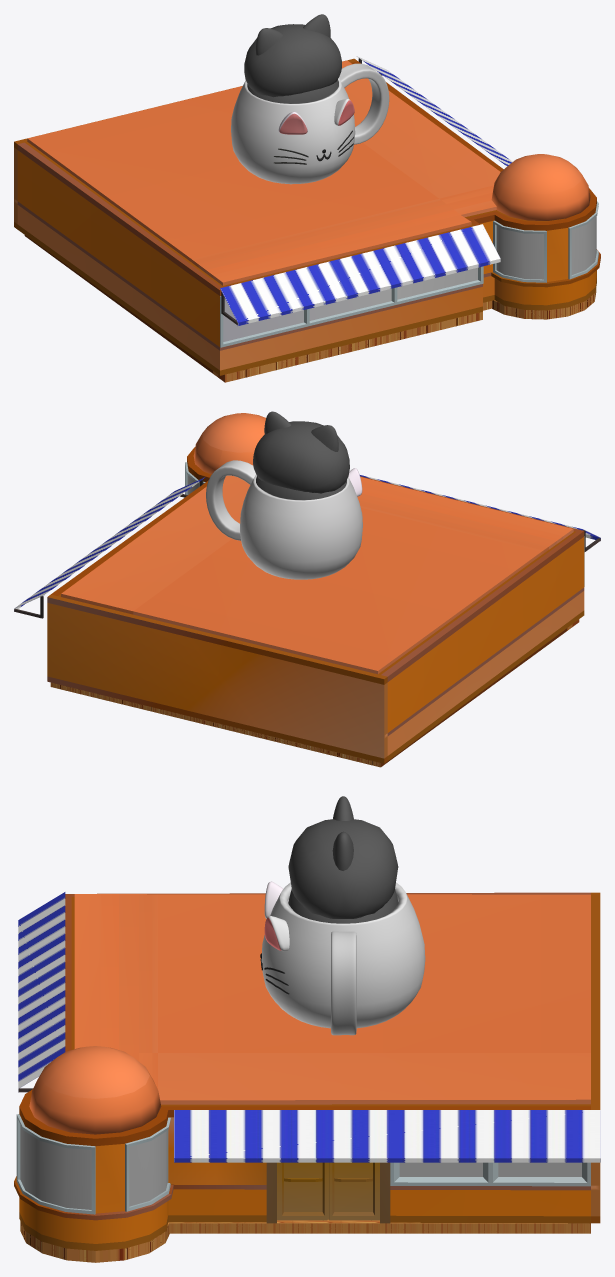
File: CAT COFFEE. julian. entregable.fbx
The picture shows the model from 3 angles, top to bottom: view 1: azimuth 30°, elevation 25°; view 2: azimuth 150°, elevation 25°; view 3: azimuth 270°, elevation 25°; orthographic projection. The views are drawn at different scales.
Parts seen in each view (by area): view 1: TECHO, MURO CALLEJON, Plane.006, Plane.002, MURO PRINCIPAL. VENTANAL, MURO ROTONDA, CUPULA, VENTANAS FRONTAL, ventana ROTONDA, SUELO, Plane.004, Circle.010 (+2 smaller); view 2: TECHO, MURO TRASERO, MURO CALLEJON, Plane.006, CUPULA, SUELO, Plane.004, MURO PRINCIPAL.001, Plane.002; view 3: TECHO, Plane.006, Plane.004, MURO PRINCIPAL.001, MURO ROTONDA, CUPULA, Plane.002, ventana ROTONDA, SUELO, PUERTA PRINCIPAL.002, PUERTA PRINCIPAL 2, MURO TRASERO (+5 smaller).
Boxes of the visible parts, x1=… form: TECHO: x1=27, y1=60, x2=500, y2=285; MURO CALLEJON: x1=17, y1=142, x2=223, y2=375; Plane.006: x1=231, y1=14, x2=389, y2=184; Plane.002: x1=220, y1=224, x2=500, y2=325; MURO PRINCIPAL. VENTANAL: x1=220, y1=210, x2=501, y2=375; MURO ROTONDA: x1=492, y1=188, x2=600, y2=310; CUPULA: x1=491, y1=154, x2=590, y2=220; VENTANAS FRONTAL: x1=223, y1=267, x2=477, y2=341; ventana ROTONDA: x1=496, y1=216, x2=596, y2=279; SUELO: x1=24, y1=235, x2=492, y2=382; Plane.004: x1=356, y1=56, x2=512, y2=166; Circle.010: x1=492, y1=288, x2=596, y2=319; TECHO: x1=61, y1=475, x2=573, y2=674; MURO TRASERO: x1=47, y1=594, x2=387, y2=763; MURO CALLEJON: x1=378, y1=531, x2=584, y2=760; Plane.006: x1=206, y1=411, x2=362, y2=579; CUPULA: x1=193, y1=413, x2=265, y2=475; SUELO: x1=50, y1=619, x2=579, y2=767; Plane.004: x1=14, y1=477, x2=204, y2=611; MURO PRINCIPAL.001: x1=51, y1=480, x2=208, y2=596; Plane.002: x1=360, y1=475, x2=600, y2=540; TECHO: x1=74, y1=894, x2=590, y2=1104; Plane.006: x1=260, y1=796, x2=425, y2=1035; Plane.004: x1=174, y1=1110, x2=600, y2=1162; MURO PRINCIPAL.001: x1=161, y1=1104, x2=590, y2=1223; MURO ROTONDA: x1=14, y1=1089, x2=173, y2=1250; CUPULA: x1=29, y1=1046, x2=161, y2=1134; Plane.002: x1=18, y1=892, x2=65, y2=1092; ventana ROTONDA: x1=20, y1=1125, x2=167, y2=1209; SUELO: x1=168, y1=1219, x2=590, y2=1233; PUERTA PRINCIPAL.002: x1=328, y1=1162, x2=379, y2=1220; PUERTA PRINCIPAL 2: x1=277, y1=1162, x2=328, y2=1220; MURO TRASERO: x1=591, y1=892, x2=600, y2=1223.
Size of the model in its own units: 1424 by 851 by 1422.
